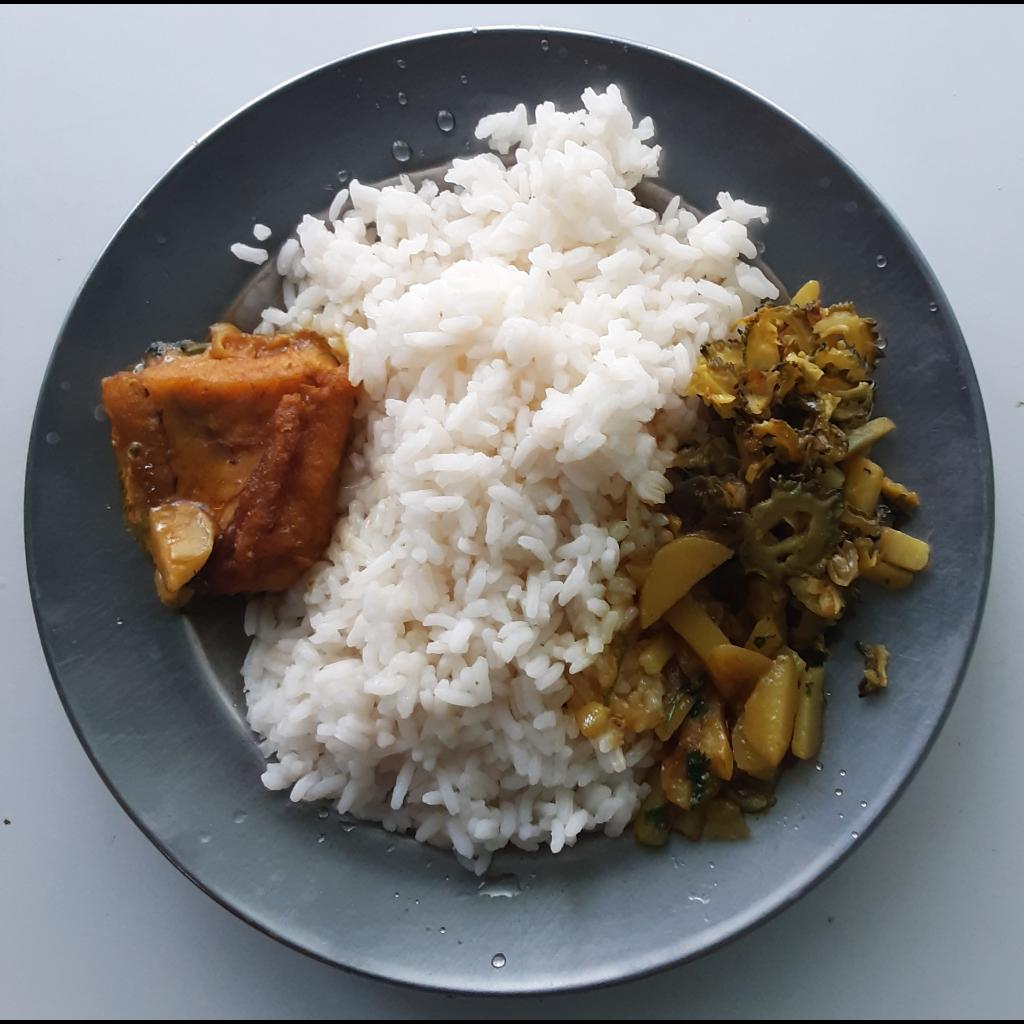fish: (95, 326, 361, 603)
korola-vaji: (677, 278, 938, 668)
potato: (574, 525, 825, 854)
rice: (238, 66, 778, 883)
